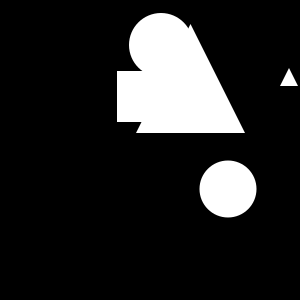circle: (117, 71, 168, 122)
rectangle: (129, 13, 193, 77), (200, 160, 256, 218)
triangle: (136, 24, 245, 133), (280, 68, 298, 86)
